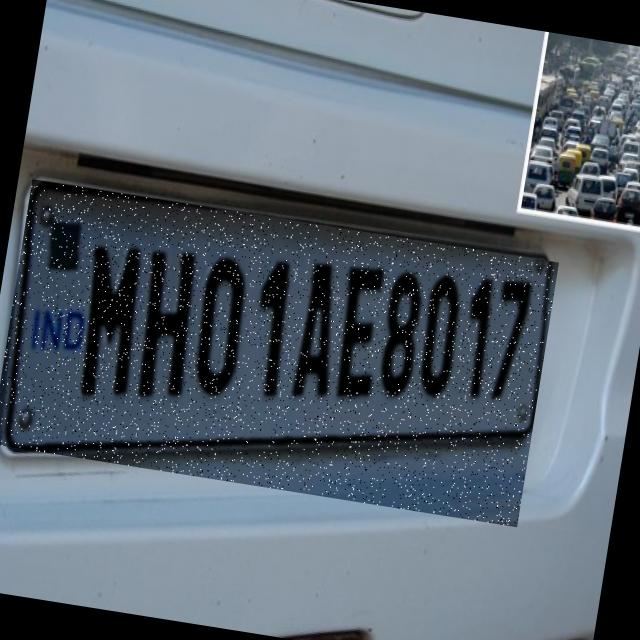Plate: (1, 180, 559, 528)
